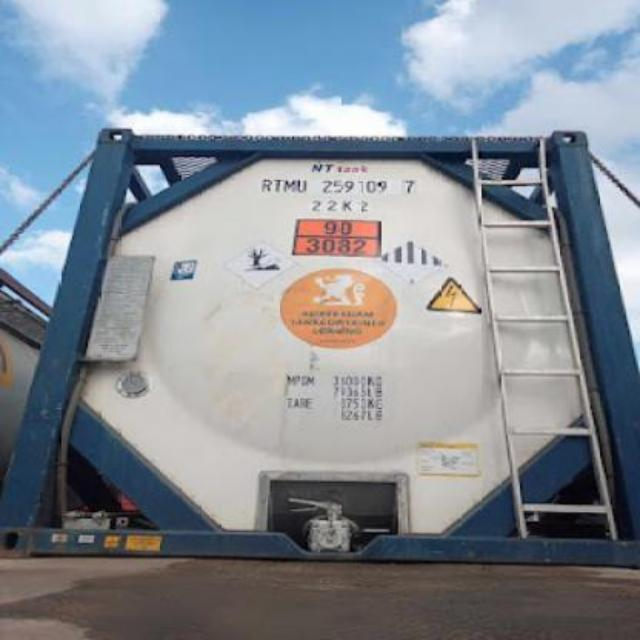0: (364, 176, 378, 197)
1: (356, 176, 366, 197)
2: (320, 171, 332, 197)
5: (332, 172, 342, 198)
7: (401, 174, 414, 196)
9: (342, 176, 354, 197), (378, 174, 386, 198)
M: (282, 178, 298, 192)
R: (256, 174, 272, 196)
T: (270, 176, 284, 198)
U: (296, 178, 312, 196)
